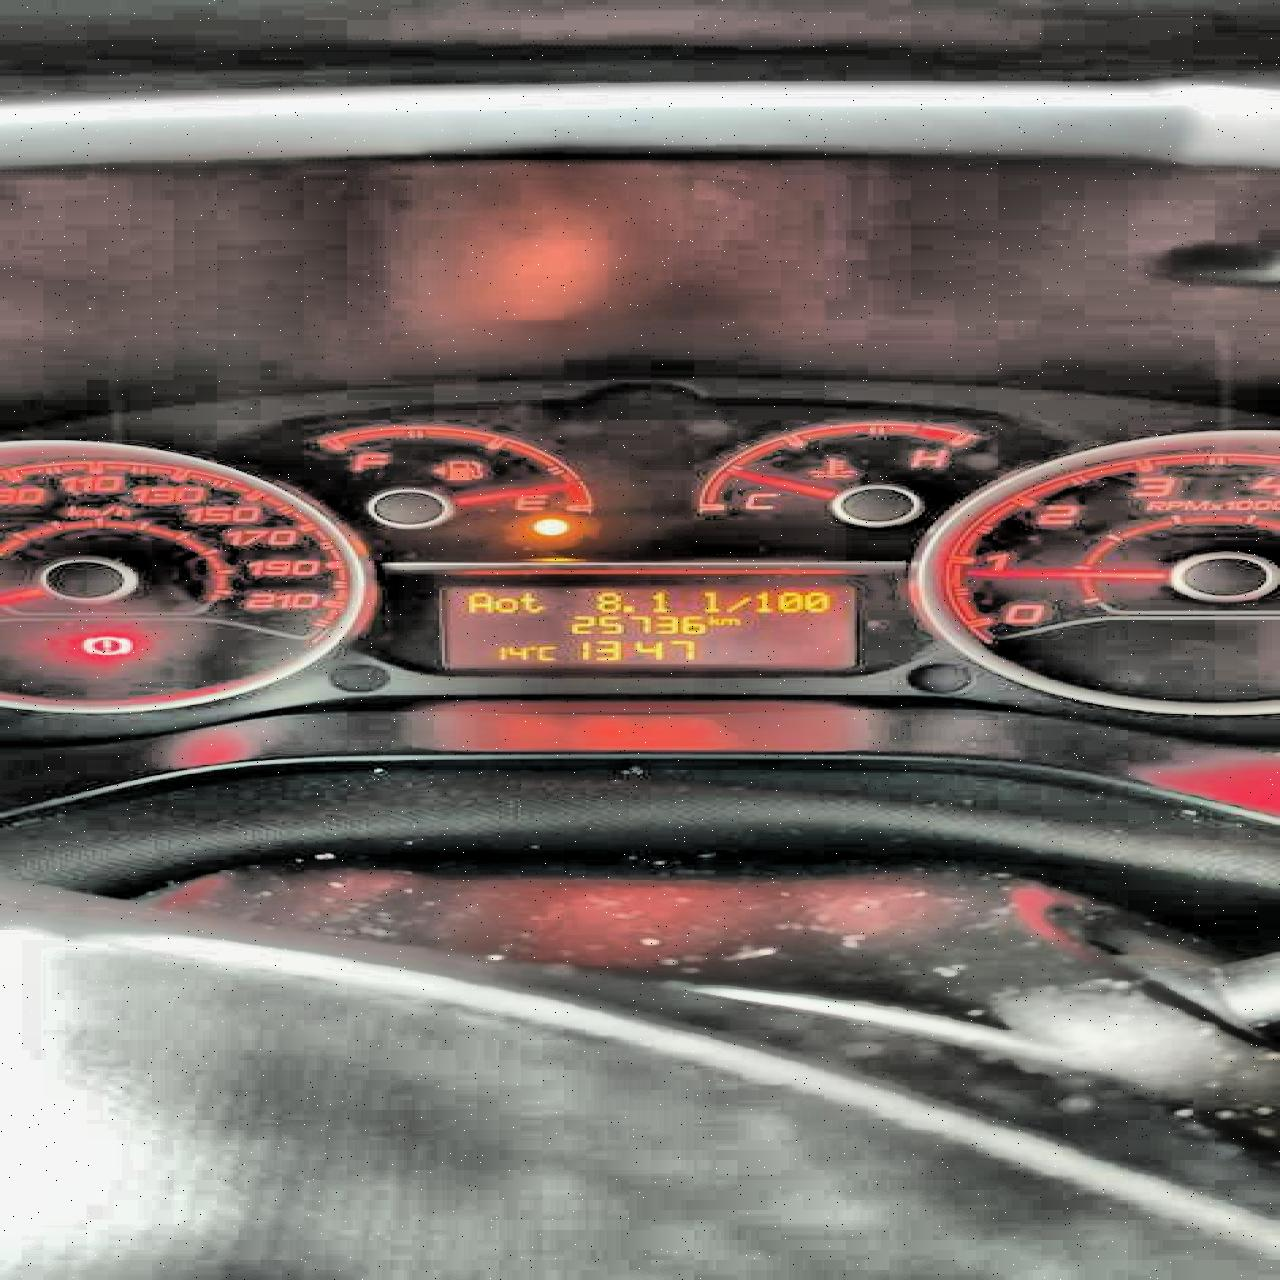-: (618, 604, 635, 611)
0: (772, 592, 803, 613), (803, 590, 828, 611)
1: (648, 590, 667, 611), (754, 590, 770, 611), (578, 640, 588, 660), (497, 645, 504, 660)
2: (567, 615, 594, 634)
3: (591, 639, 618, 660), (651, 615, 678, 634)
4: (632, 639, 662, 659), (505, 645, 526, 660)
5: (594, 615, 621, 634)
6: (678, 615, 702, 633)
7: (667, 639, 694, 659), (626, 615, 651, 633)
8: (594, 591, 618, 611)
X: (464, 592, 491, 613), (518, 592, 543, 613), (724, 597, 751, 613), (491, 598, 516, 613), (700, 590, 716, 611), (535, 645, 556, 660), (716, 617, 741, 625), (704, 614, 716, 625)
odometer: (434, 583, 863, 669)
